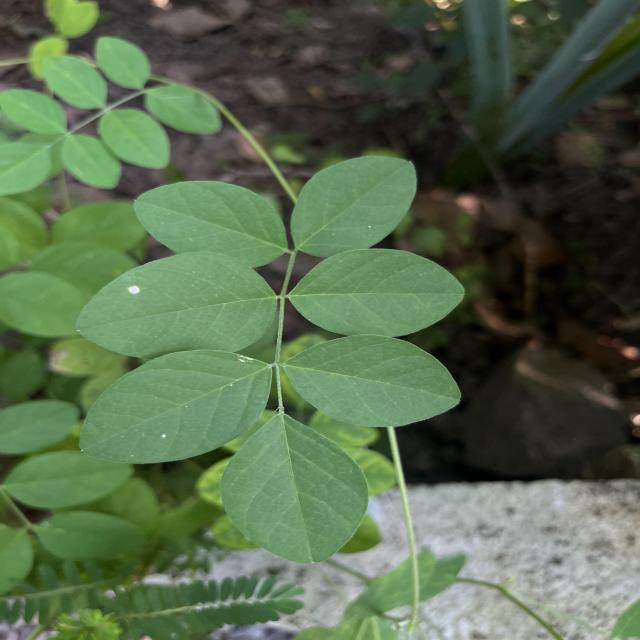Clitoria ternatea: (219, 413, 371, 566), (78, 348, 274, 466), (75, 251, 278, 362), (282, 333, 464, 428), (290, 247, 468, 337), (132, 180, 290, 270), (290, 154, 420, 259)
